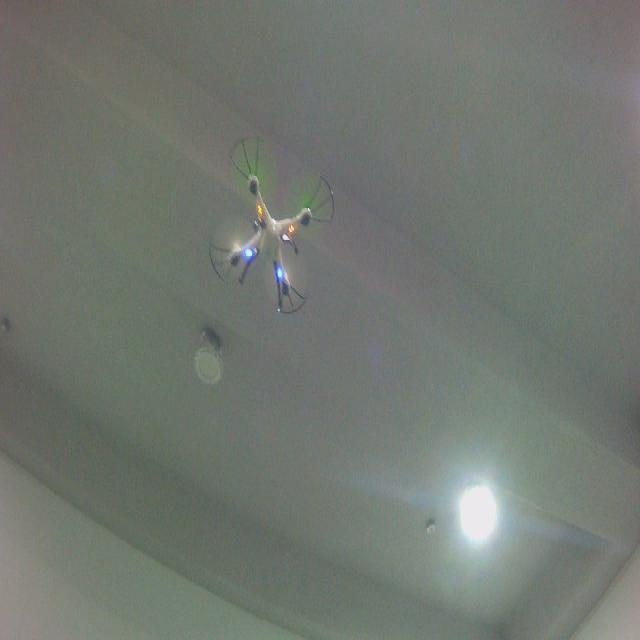drone: (207, 134, 335, 318)
